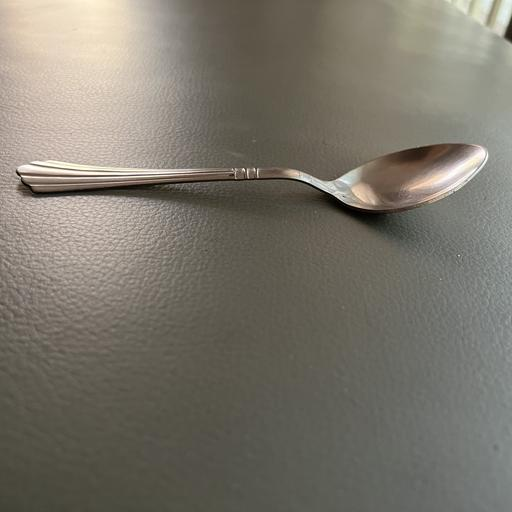spoon: (15, 143, 490, 215)
